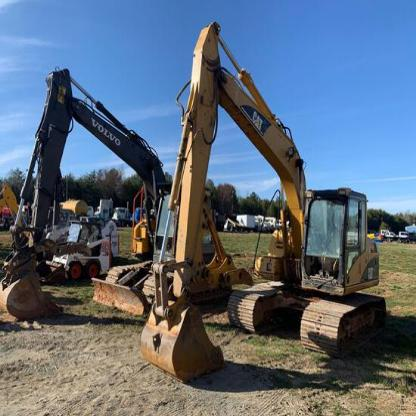excavator: (137, 15, 400, 391), (8, 46, 226, 356)
